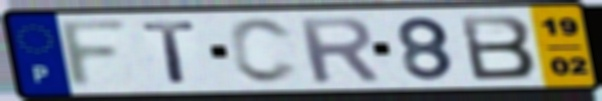8: (395, 14, 458, 83)
B: (455, 13, 539, 82)
C: (225, 16, 303, 87)
F: (56, 17, 133, 91)
R: (293, 15, 384, 85)
T: (138, 19, 200, 86)
